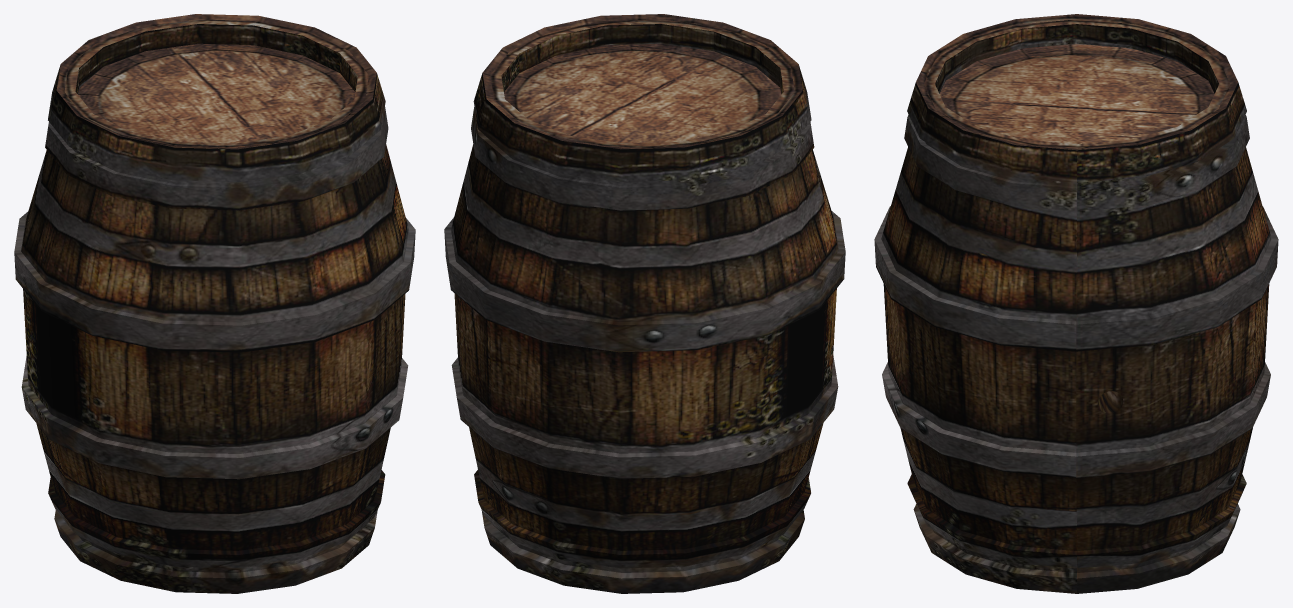
The model's file is barrels-010.FBX.
The picture shows the model from 3 angles, left to right: view 1: azimuth 30°, elevation 25°; view 2: azimuth 150°, elevation 25°; view 3: azimuth 270°, elevation 25°; orthographic projection.
Parts seen in each view (by area): view 1: Line001; view 2: Line001; view 3: Line001.
Boxes of the visible parts, x1=… form: Line001: x1=14, y1=14, x2=415, y2=593; Line001: x1=444, y1=14, x2=845, y2=593; Line001: x1=874, y1=14, x2=1278, y2=593.
Bounding box in the file's own units: 21.32 × 25.93 × 21.32.
Materials: 1 (1 with a texture image).
